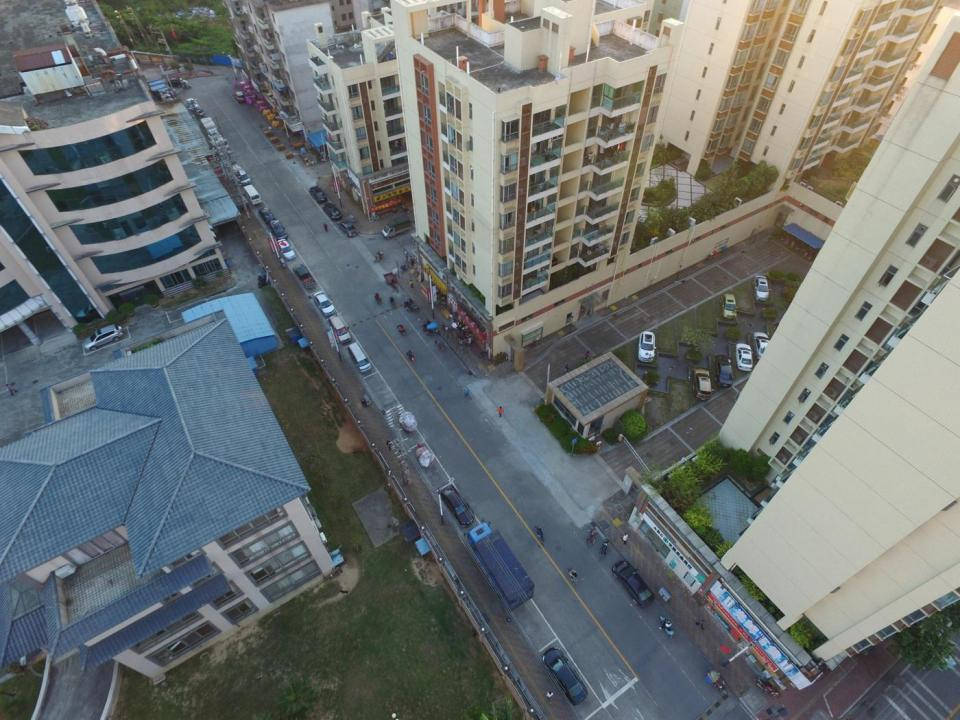car: (542, 647, 590, 706), (611, 560, 654, 608), (441, 484, 476, 526), (82, 324, 123, 352), (690, 368, 716, 401), (752, 330, 774, 362), (312, 289, 336, 317), (714, 354, 733, 387), (638, 330, 656, 362), (735, 341, 754, 371), (720, 292, 738, 320), (336, 217, 358, 238), (277, 238, 296, 262), (268, 219, 289, 239), (754, 275, 770, 301), (321, 201, 341, 221), (308, 184, 327, 203), (258, 206, 275, 224), (233, 90, 246, 103), (186, 97, 197, 108)
truck: (463, 521, 535, 612), (381, 215, 411, 239), (292, 264, 318, 290), (199, 116, 219, 141), (207, 134, 225, 150)
van: (348, 342, 372, 374), (328, 315, 352, 345), (230, 163, 252, 187), (244, 184, 262, 206), (169, 77, 183, 88)
